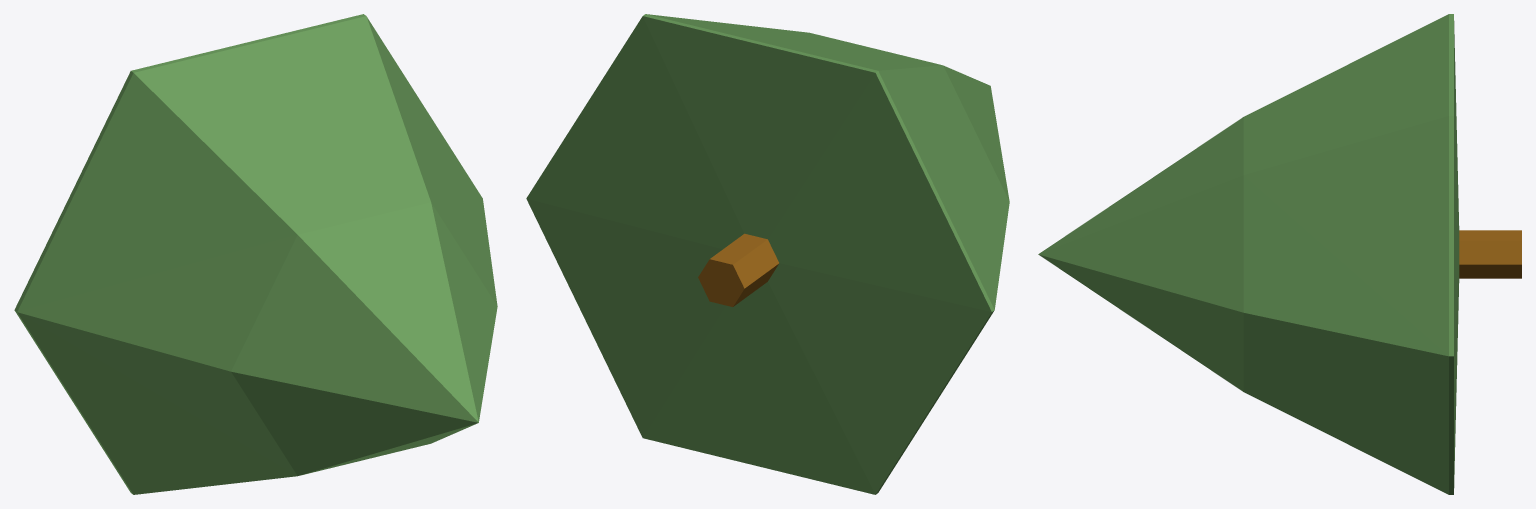
File: conifer_lod2.obj
3 renders of one model, left to right at view 1: azimuth 30°, elevation 25°; view 2: azimuth 150°, elevation 25°; view 3: azimuth 270°, elevation 25°, orthographic. The views are drawn at different scales.
Bounding box in the file's own units: 19.2 × 16.63 × 19.24.
